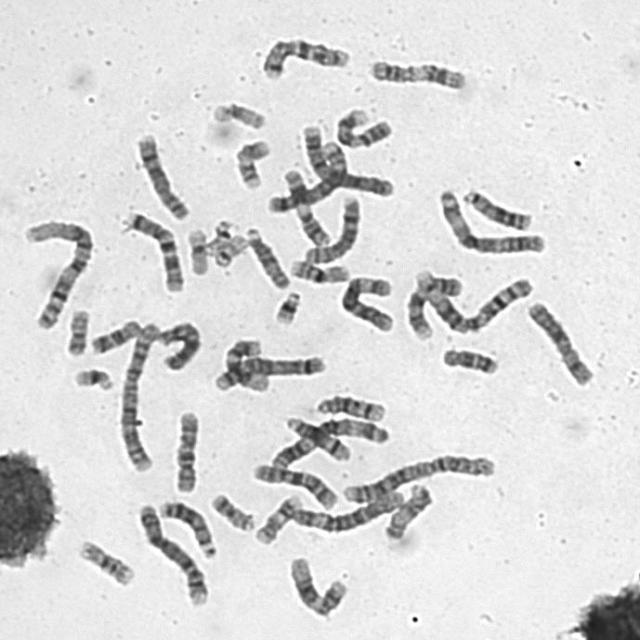A1: (17, 215, 94, 332), (411, 266, 536, 336)
A2: (337, 449, 499, 505), (114, 316, 162, 474)
A3: (433, 183, 549, 256), (266, 412, 391, 472)
B4: (132, 499, 210, 607), (296, 120, 396, 200)
B5: (263, 136, 349, 214), (209, 351, 329, 393)
C10: (247, 458, 340, 512), (168, 406, 201, 494)
C11: (280, 164, 332, 248), (364, 54, 469, 92)
C12: (284, 552, 349, 619), (221, 334, 271, 393)
C6: (283, 485, 407, 535), (334, 271, 396, 334)
C7: (117, 206, 186, 294), (257, 34, 352, 81)
C8: (129, 130, 191, 222), (300, 192, 362, 266)
C9: (402, 271, 467, 342), (331, 104, 394, 151)
D13: (154, 496, 218, 560), (457, 185, 534, 232)
D14: (280, 412, 353, 464), (310, 391, 386, 423)
D15: (380, 479, 436, 542), (240, 223, 290, 291)
E16: (74, 535, 136, 587), (284, 254, 352, 286)
E17: (250, 489, 305, 547), (230, 136, 272, 191)
E18: (85, 315, 143, 356), (436, 343, 499, 376)
F19: (206, 98, 268, 130), (182, 224, 211, 276)
F20: (206, 490, 256, 532), (60, 304, 91, 358)
G21: (269, 287, 303, 326), (68, 364, 115, 392)
G22: (207, 231, 250, 268), (204, 216, 238, 254)
X: (522, 297, 596, 388), (154, 316, 204, 373)
